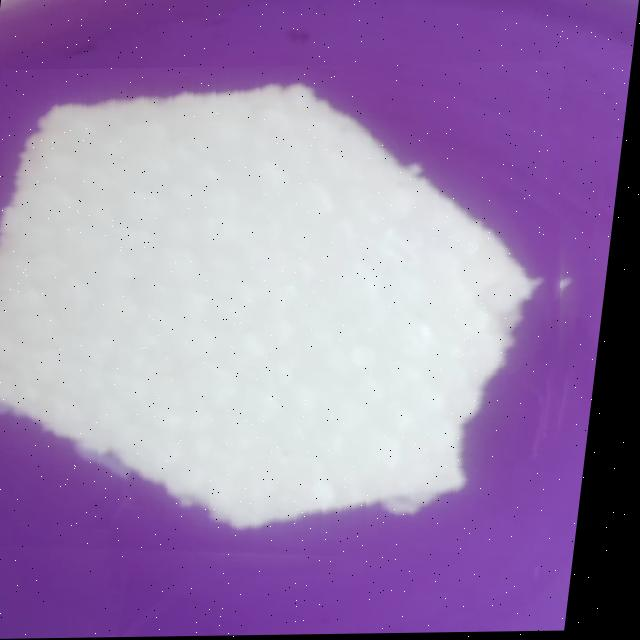litter: (0, 63, 616, 572)
